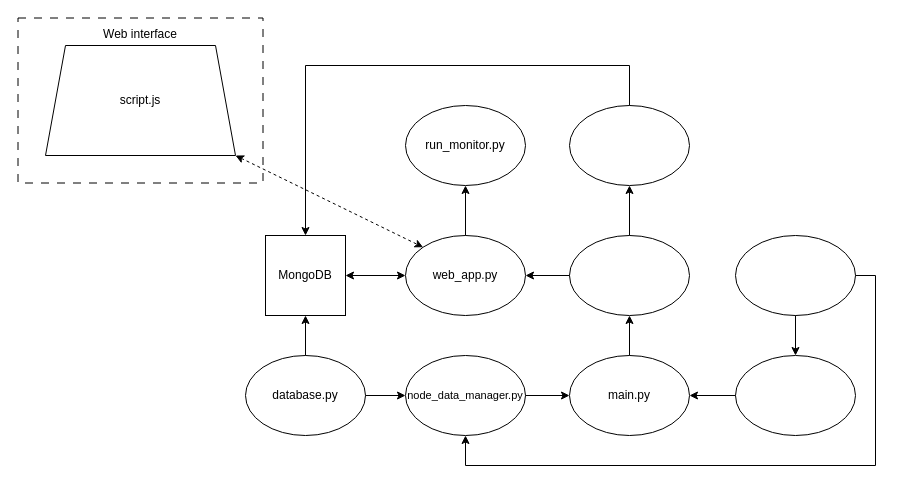
The diagram is 901 pixels wide and 491 high, and some of its shapes have lost their labels. The shapes that lost their labels are listed below. From the top down, each one's centre as x and y in pixels, then its label:
(x=629, y=145): mongodb_control.py
(x=629, y=275): backend_control.py
(x=795, y=275): node_info.py
(x=795, y=395): scanner_node.py
